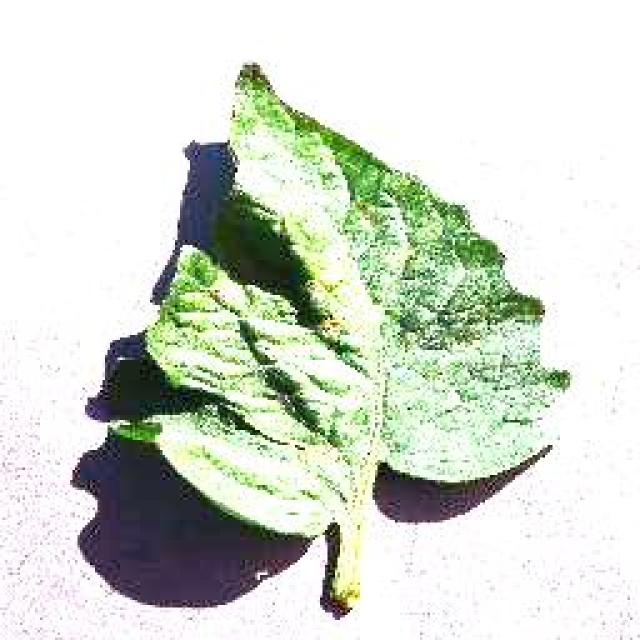Tomato___Target_Spot: (110, 65, 568, 608)
